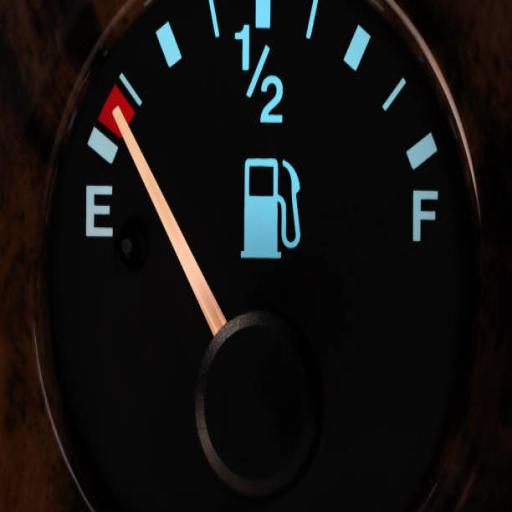empty: (82, 180, 114, 246)
fuel_icon: (241, 159, 301, 262)
full: (410, 188, 438, 238)
guage_area: (66, 0, 448, 491)
needle_center: (195, 295, 316, 490)
needle_tip: (109, 105, 141, 152)
